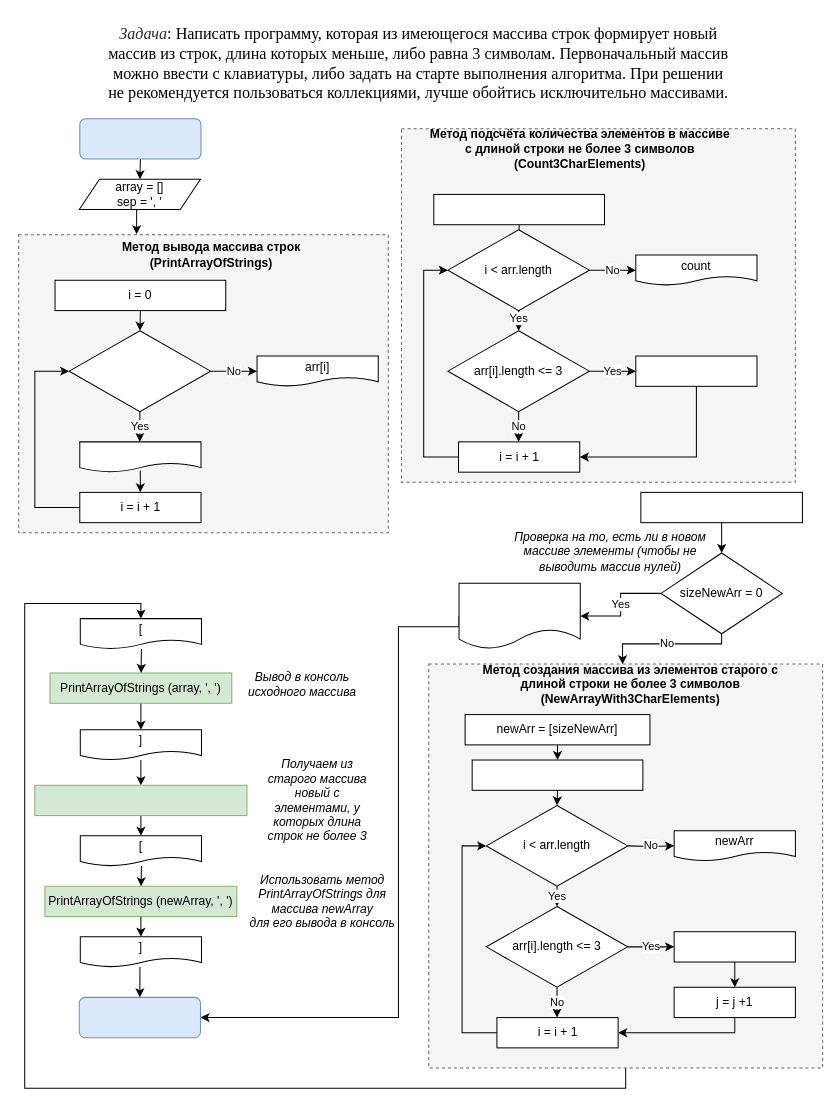
Some shapes in this 840 by 1114 pixel diagram are drawn without their labels. Each missing label, with the centre of its shape:
"В массиве нет строк менее, чем с 3 символами": the point at 519,615
arr[i], sep: the point at 140,456
count = 0 i = 0: the point at 518,209
count = count + 1: the point at 696,370
End: the point at 139,1017
i < arr.length - 1: the point at 139,371
i = 0 j = 0: the point at 557,774
newArr[j] = arr[i]: the point at 734,946
newArray = NewArrayWith3CharElements (array): the point at 140,800
sizeNewArr = Count3CharElements (array): the point at 721,507
Start: the point at 140,138
